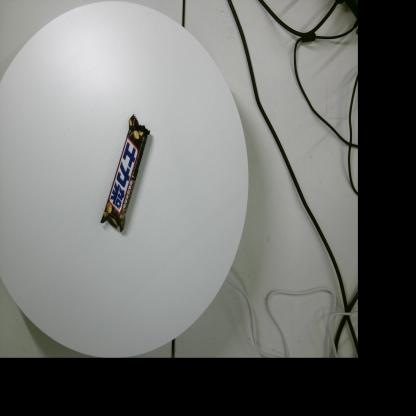Chocolate: (100, 114, 150, 232)
